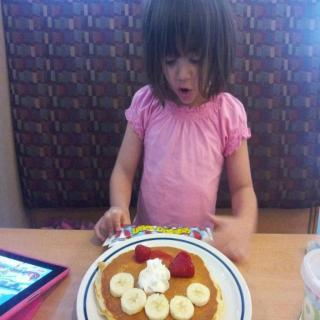Pancake: (100, 235, 218, 318)
